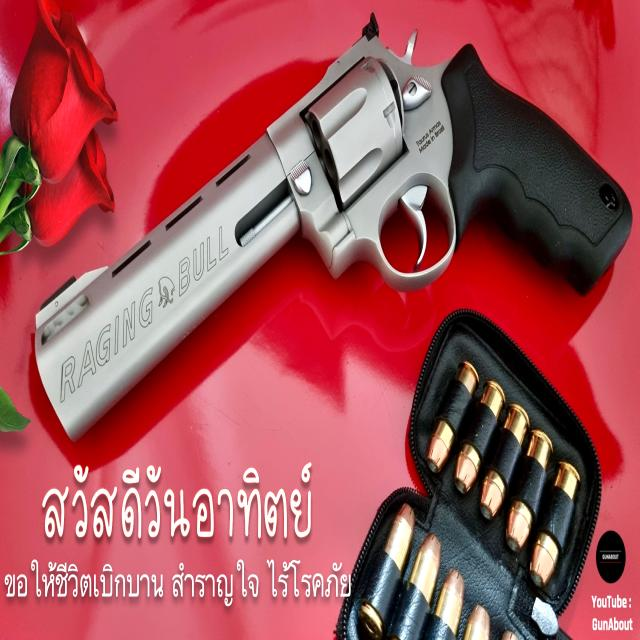revolver: (32, 7, 638, 470)
